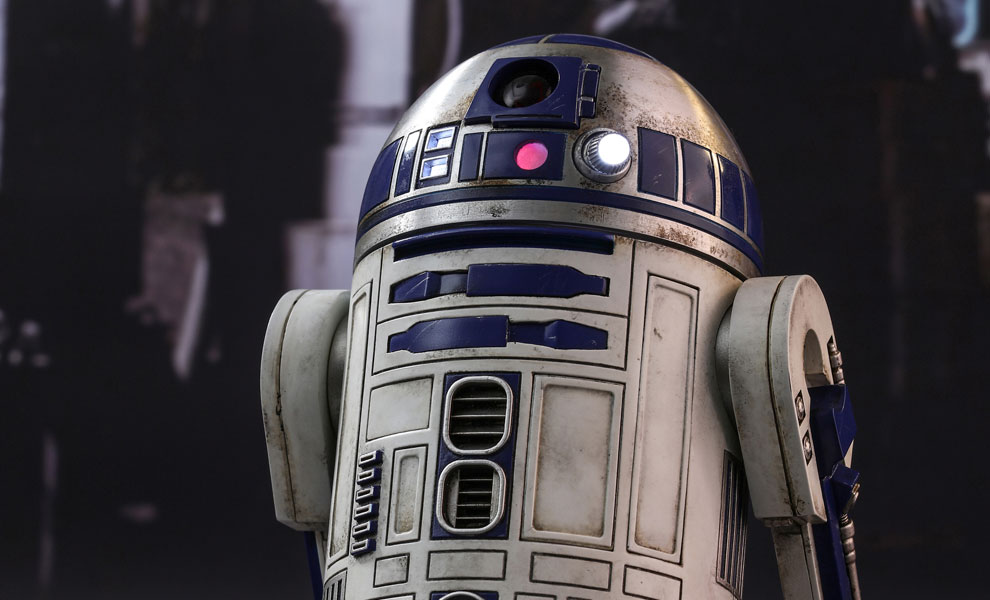r2d2: (258, 32, 863, 600)
